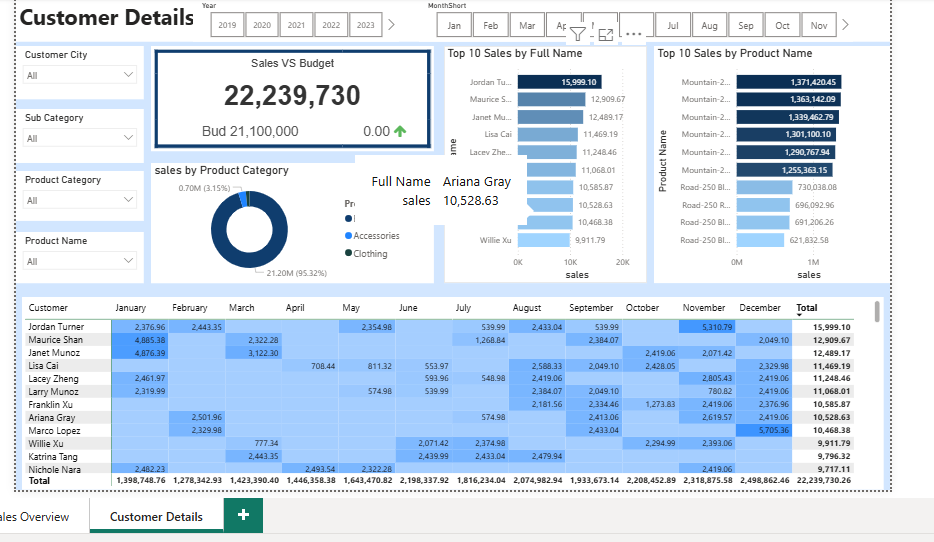

The page's visual inventory and layout, read from the dashboard file:
{"tool":"powerbi","page":{"name":"Customer Details","canvas":[1280,720],"ordinal":1},"visuals":[{"type":"textbox","box":[0,0,1280.5,64.4],"z":0},{"type":"slicer","fields":{"Values":["DimCustomer.Customer City"]},"box":[0,70.2,187.3,77.6],"z":1000},{"type":"slicer","fields":{"Values":["DimProduct.Sub Category"]},"box":[0,162.4,187.3,79],"z":2000},{"type":"slicer","fields":{"Values":["DimProduct.Product Category"]},"box":[0,253.2,187.3,73.2],"z":3000},{"type":"slicer","fields":{"Values":["DimProduct.Product Name"]},"box":[0,342.4,187.3,74.6],"z":4000},{"type":"slicer","fields":{"Values":["DimCalendar.Year"]},"box":[259,0,301.5,64.4],"z":5000},{"type":"slicer","fields":{"Values":["DimCalendar.MonthShort"]},"box":[589.8,0,635.1,64.4],"z":6000},{"type":"BBED0A4D4D8D44CE93CF2DAFADEE466C","fields":{"actual":["FactInternetSales.sales"],"target1":["Budget.Budget amt"]},"box":[197.6,70.2,414.1,153.7],"z":7000},{"type":"donutChart","fields":{"Category":["DimProduct.Product Category"],"Y":["my_measures.sales"]},"box":[197.6,241.5,414.1,175.6],"z":8000},{"type":"barChart","title":"Top 10 Sales by Full Name","fields":{"Y":["my_measures.sales"],"Category":["DimCustomer.Full Name"]},"box":[626.3,70.2,297.1,346.8],"z":9000},{"type":"barChart","title":"Top 10 Sales by Product Name","fields":{"Y":["my_measures.sales"],"Category":["DimProduct.Product Name"]},"box":[933.7,70.2,346.8,346.8],"z":10000},{"type":"pivotTable","fields":{"Rows":["DimCustomer.Full Name"],"Values":["my_measures.sales"],"Columns":["DimCalendar.Month"]},"box":[8.8,437.6,1261.5,282.4],"z":11000}]}

Visuals, with their boxes on the page's 1280x720 design canvas (x1, y1, x2, y2). These are canvas units, not pixel positions in the 934x542 screenshot, which may show the page scaled, cropped or inside an application window:
textbox: 0 0 1280 64
slicer - DimCustomer.Customer City: 0 70 187 148
slicer - DimProduct.Sub Category: 0 162 187 241
slicer - DimProduct.Product Category: 0 253 187 326
slicer - DimProduct.Product Name: 0 342 187 417
slicer - DimCalendar.Year: 259 0 560 64
slicer - DimCalendar.MonthShort: 590 0 1225 64
BBED0A4D4D8D44CE93CF2DAFADEE466C - FactInternetSales.sales x Budget.Budget amt: 198 70 612 224
donutChart - DimProduct.Product Category x my_measures.sales: 198 242 612 417
"Top 10 Sales by Full Name" barChart: 626 70 923 417
"Top 10 Sales by Product Name" barChart: 934 70 1280 417
pivotTable - DimCustomer.Full Name x my_measures.sales: 9 438 1270 720
